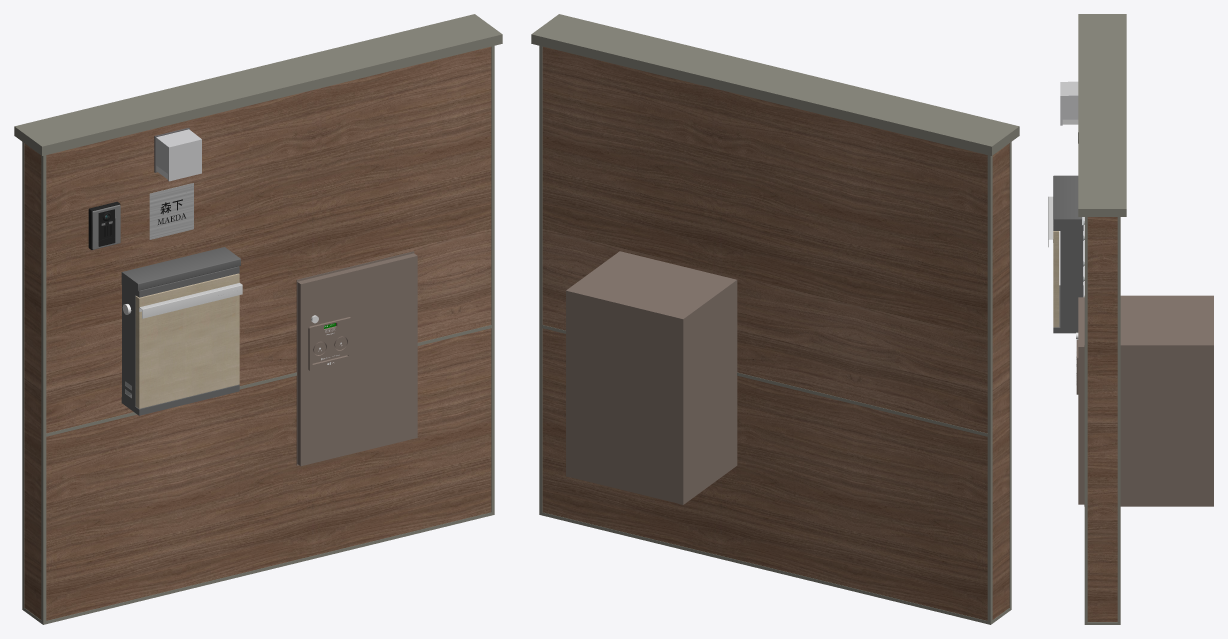
The model's file is t-boxmonchu-wide_americanwalnut.fbx.
3 views of the same model, side by side, from view 1: azimuth 30°, elevation 25°; view 2: azimuth 150°, elevation 25°; view 3: azimuth 270°, elevation 25° (orthographic). The views are drawn at different scales.
Parts seen in each view (by area): view 1: t-boxmonchu-wide_americanwalnut; view 2: t-boxmonchu-wide_americanwalnut; view 3: t-boxmonchu-wide_americanwalnut.
Boxes of the visible parts, x1=… form: t-boxmonchu-wide_americanwalnut: x1=14, y1=14, x2=502, y2=624; t-boxmonchu-wide_americanwalnut: x1=531, y1=14, x2=1019, y2=624; t-boxmonchu-wide_americanwalnut: x1=1048, y1=14, x2=1213, y2=624.
Size of the model in its own units: 153 by 153 by 55.06.
22 materials, 8 textured.
